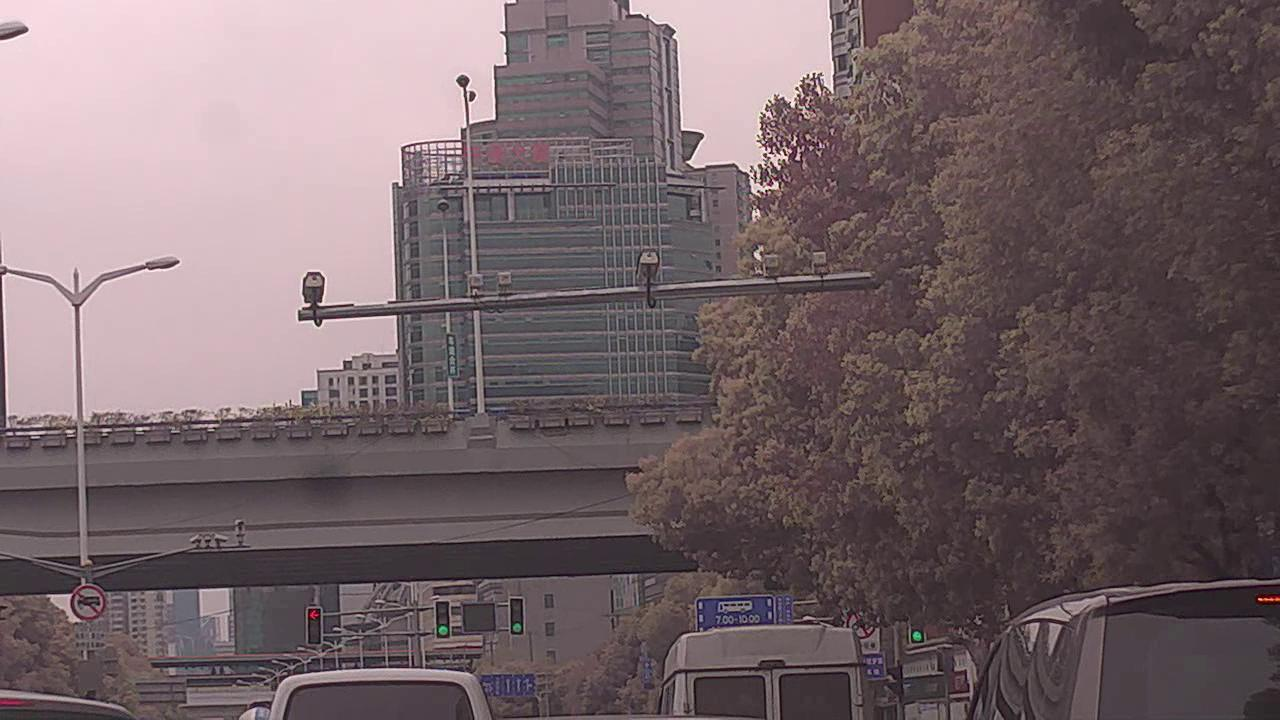traffic_light: (304, 606, 323, 645), (435, 599, 451, 638), (509, 598, 526, 634)
